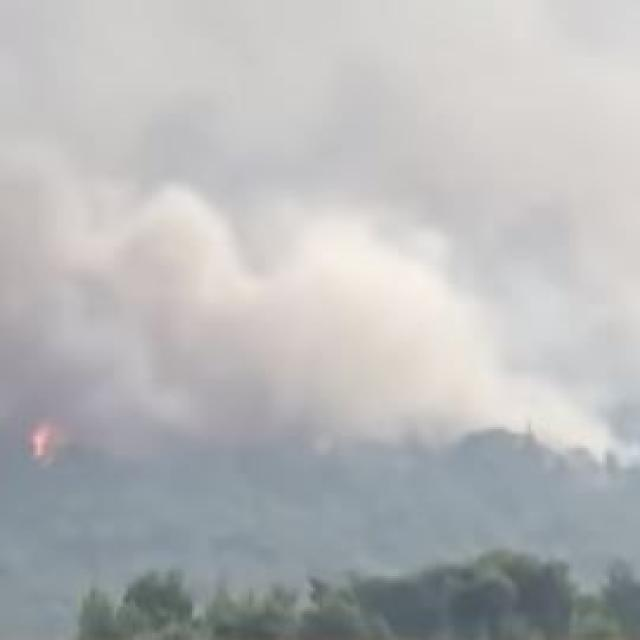Fire: (26, 418, 49, 467)
Smoke: (0, 9, 640, 572)
